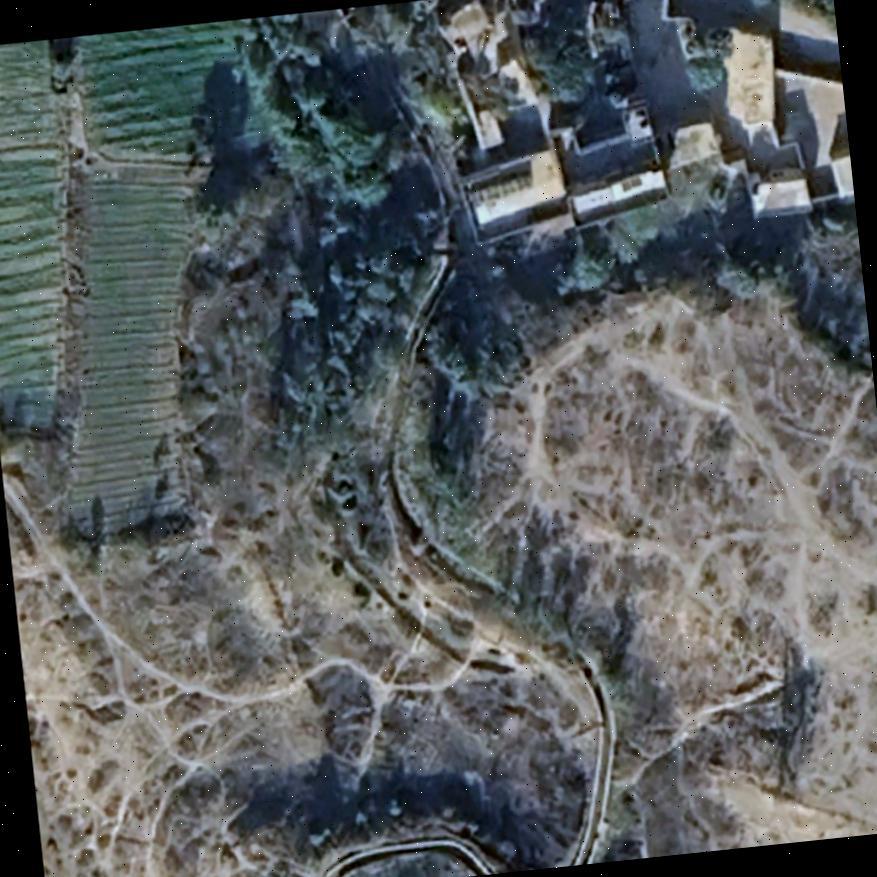Solarpanel: (467, 168, 537, 211), (617, 172, 644, 193)
